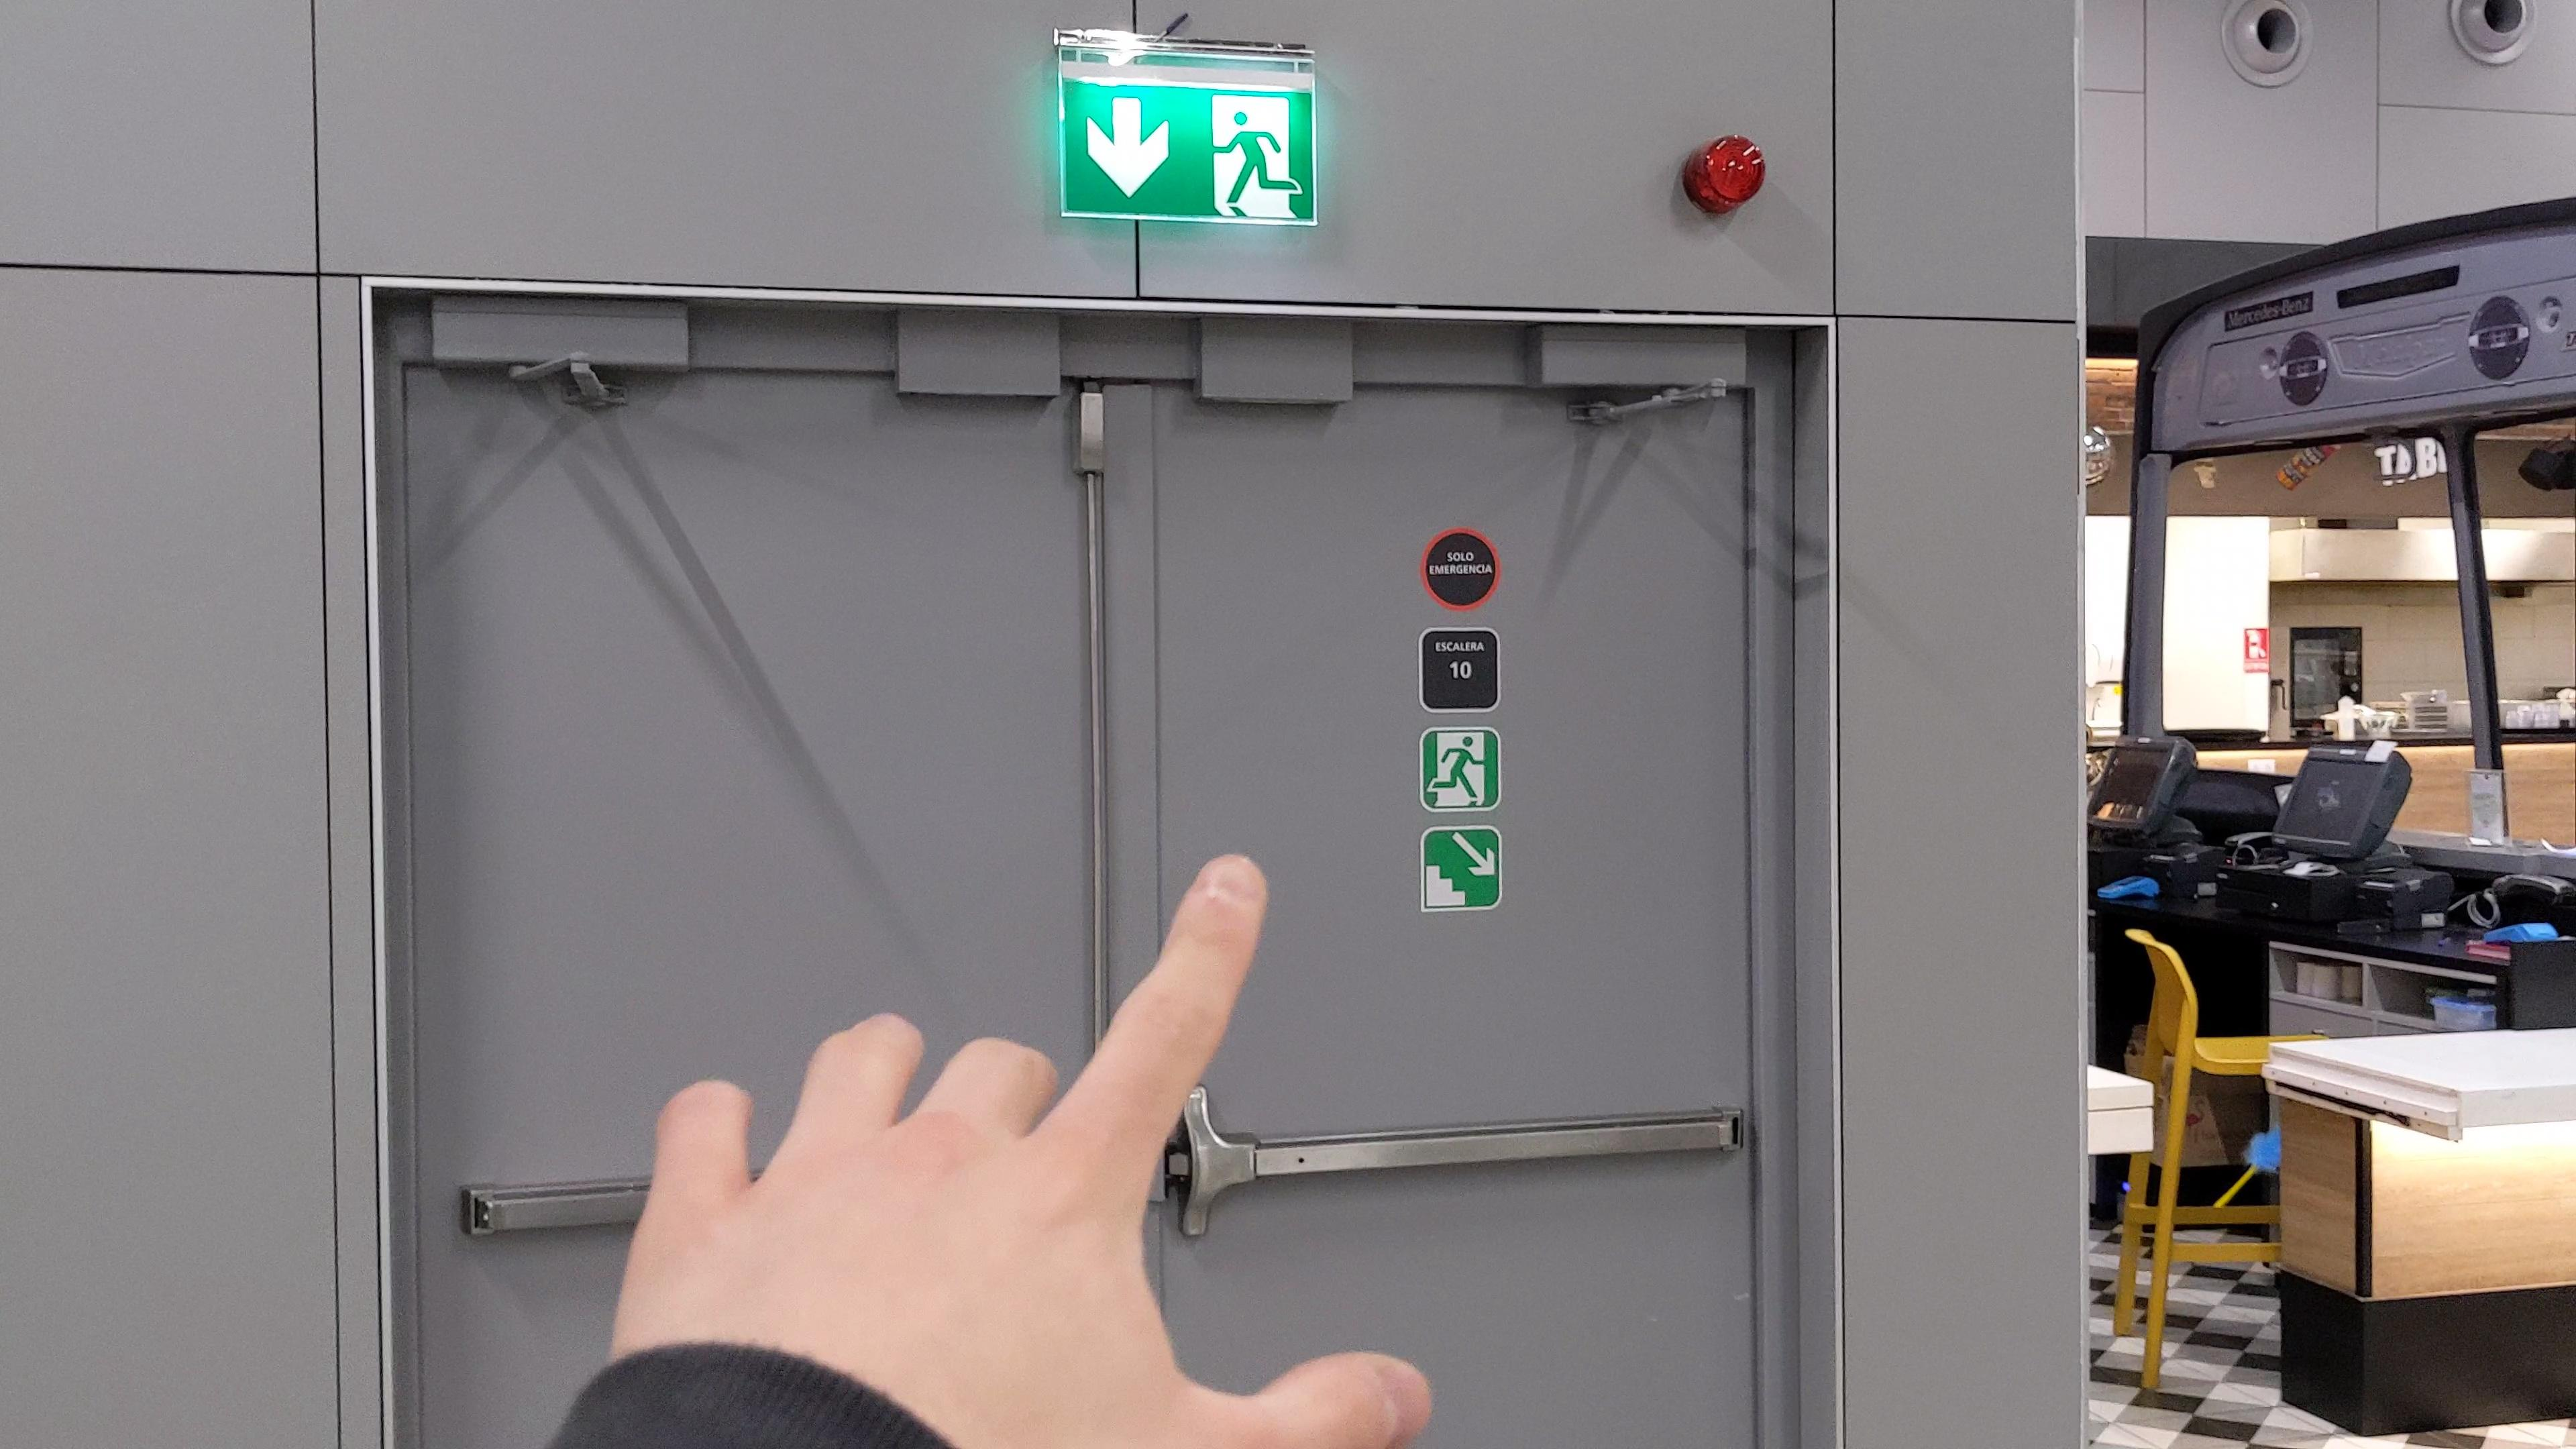emergency exit: (1207, 90, 1306, 223), (1424, 731, 1488, 809)
emergency up arrow: (1083, 92, 1173, 200)
